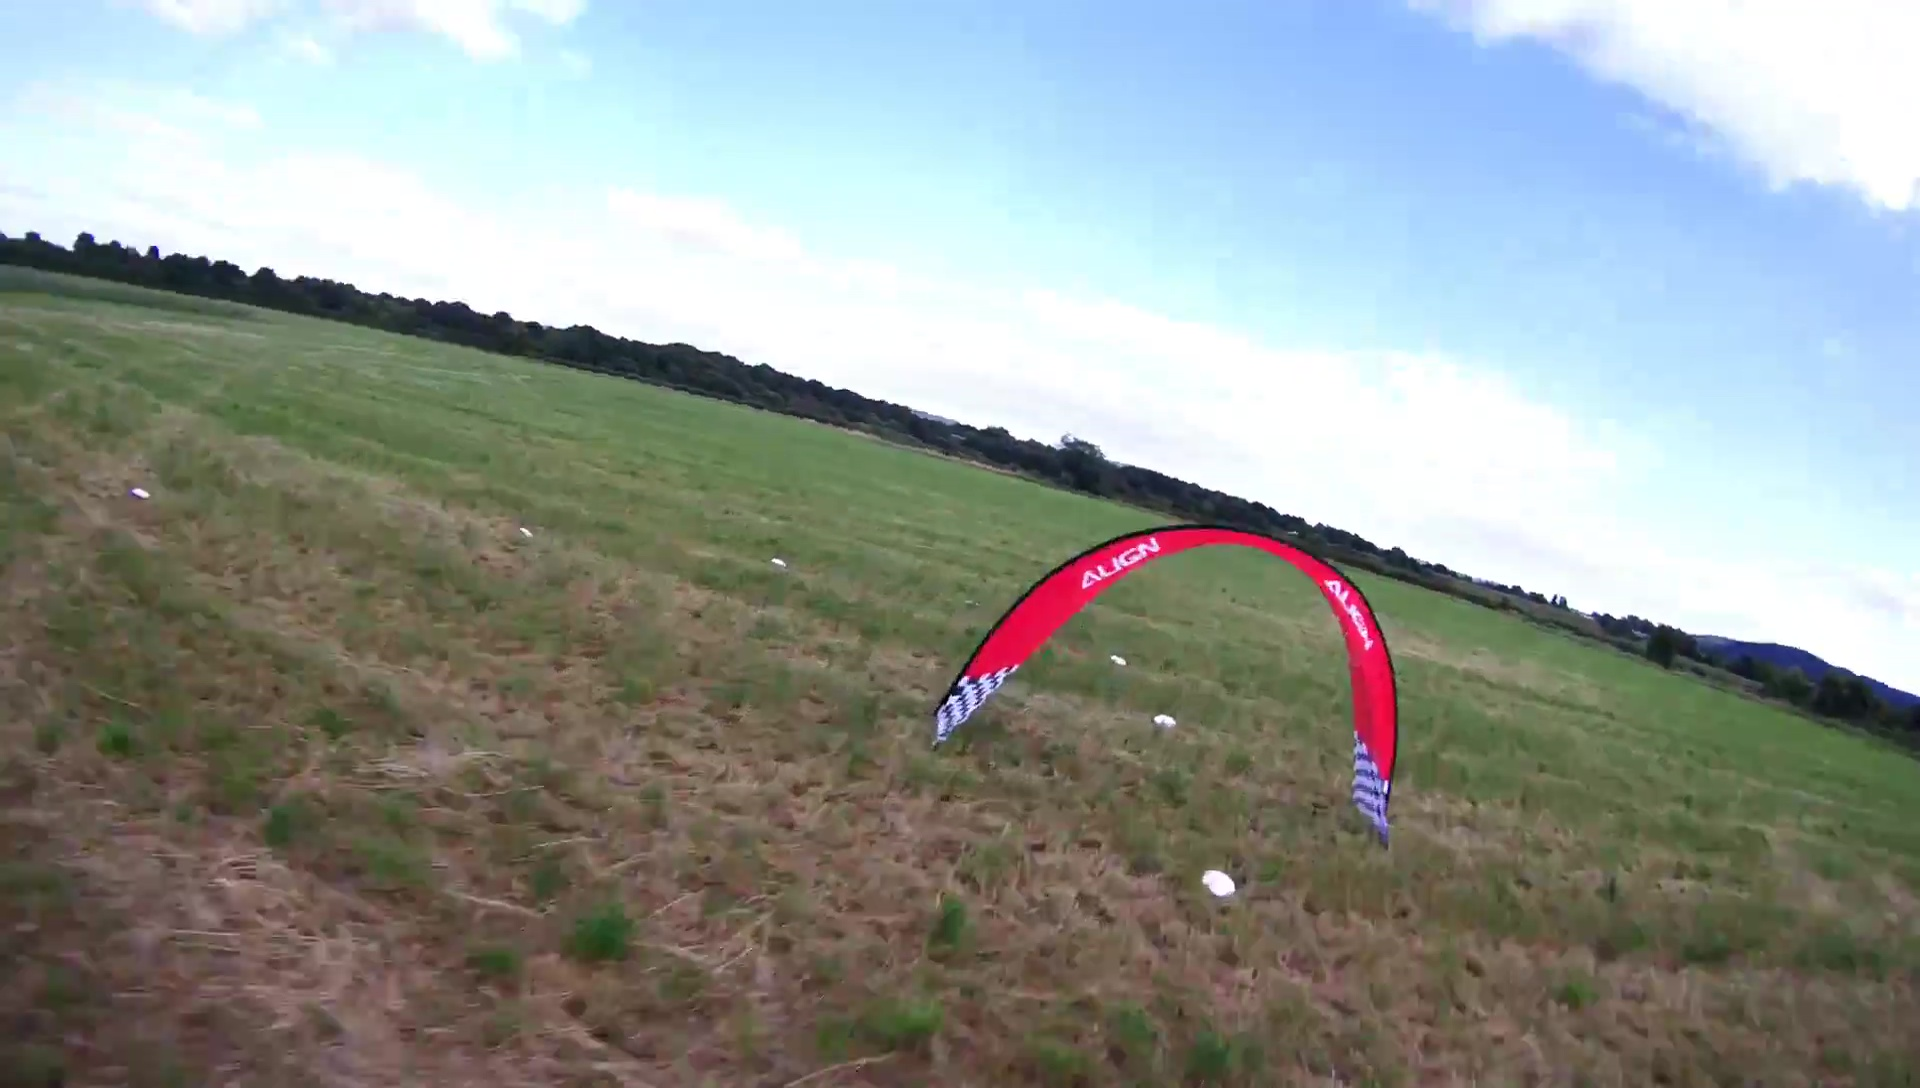gate: (926, 521, 1402, 831)
